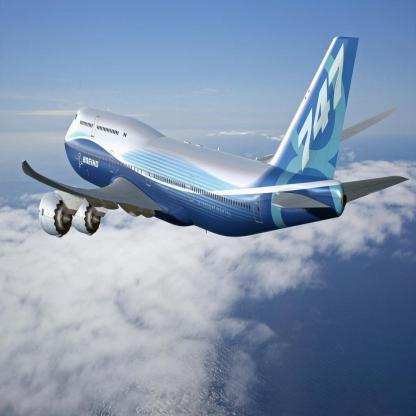CIV_Plane: (7, 31, 412, 254)
